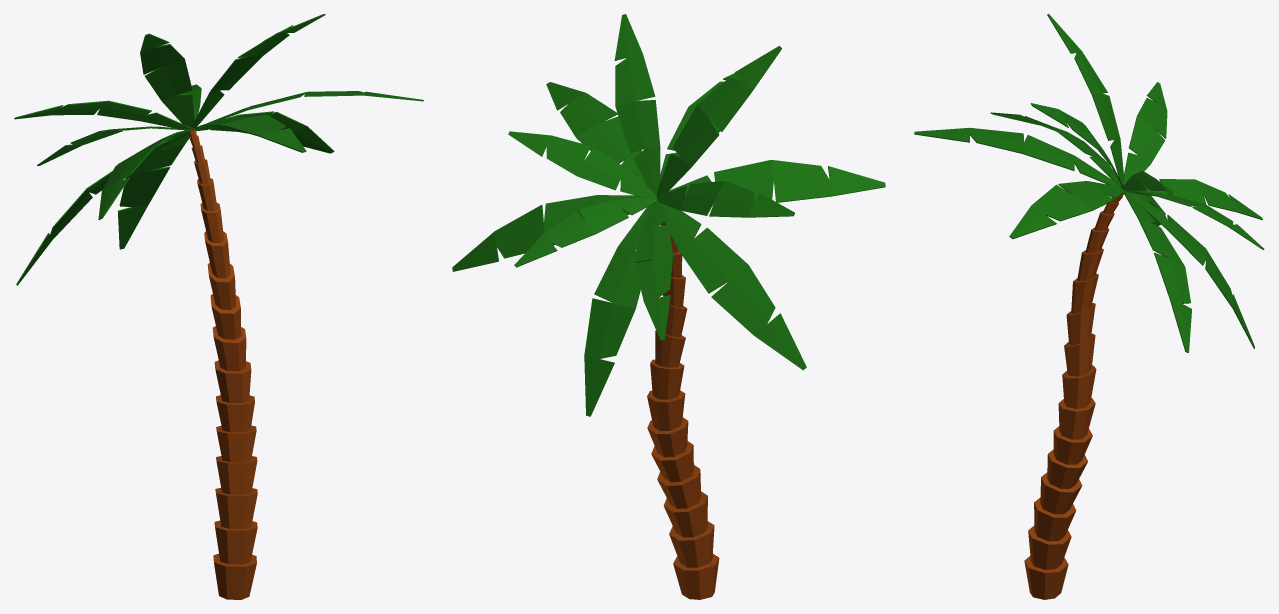
The model's file is palmtree01_überarbeitet01.fbx.
The picture shows the model from 3 angles, left to right: view 1: azimuth 30°, elevation 25°; view 2: azimuth 150°, elevation 25°; view 3: azimuth 270°, elevation 25°; orthographic projection. The views are drawn at different scales.
Parts seen in each view (by area): view 1: Plane.001; view 2: Plane.001; view 3: Plane.001.
Boxes of the visible parts, x1,y1,x2,y2 form: Plane.001: [14, 14, 423, 599]; Plane.001: [452, 14, 885, 599]; Plane.001: [914, 14, 1264, 599].
Size of the model in its own units: 465 by 759 by 446.
